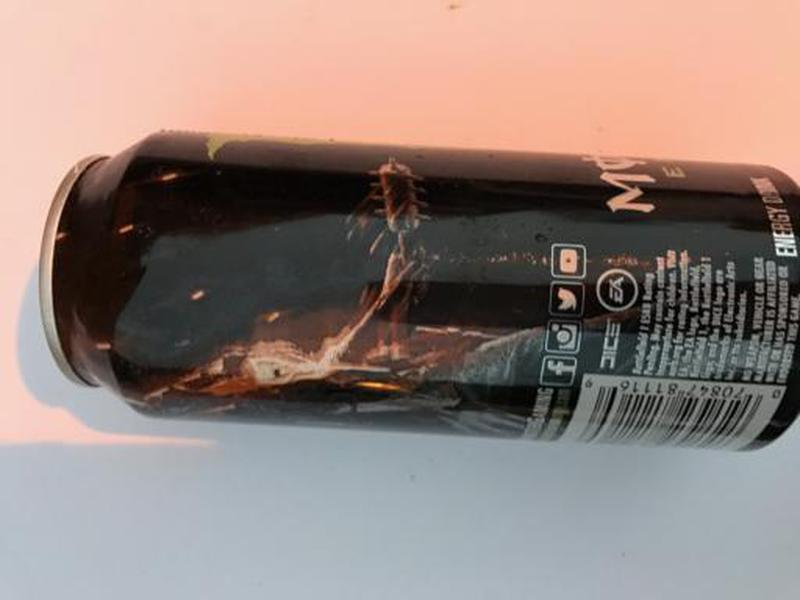can: (34, 119, 800, 467)
